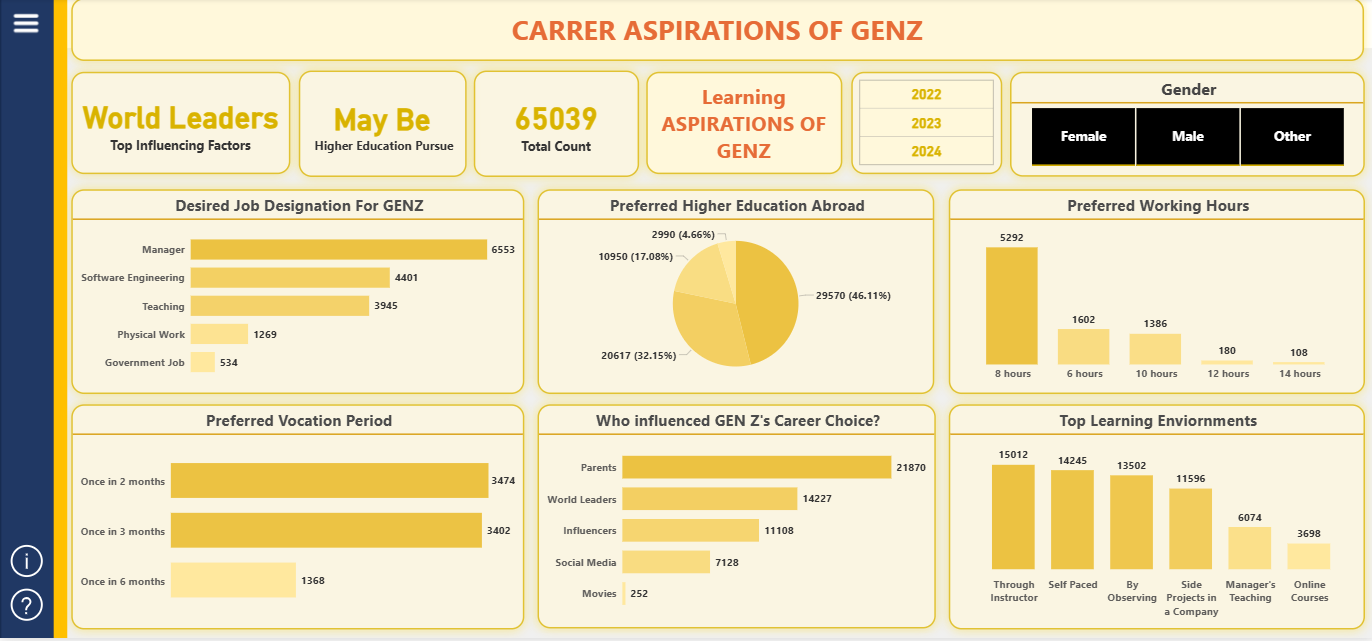

This screenshot's page, from the dashboard's own definition file:
{"tool":"powerbi","page":{"name":"Learning Aspirations","canvas":[2150,1000],"ordinal":2},"visuals":[{"type":"shape","title":"Man","box":[112,0,2020,98],"z":0},{"type":"actionButton","title":"Q/A","box":[10,916,68,64],"z":0,"group":"g1"},{"type":"barChart","title":"Preferred Vocation Period","fields":{"Category":["Career Aspirations.Frequency of Full Week Break"],"Y":["Dax Measures.Pin Code"]},"box":[112,634,708,352],"z":1000},{"type":"actionButton","title":"Info","box":[10,848.4,68,64],"z":1000,"group":"g1"},{"type":"actionButton","title":"Menu","box":[15.2,14,58.5,50.3],"z":2000,"group":"g1"},{"type":"card","title":"Minimum Salary Expectation at Starting","fields":{"Values":["Dax Measures.Top Influencing Factors"]},"box":[112,116,342,160],"z":2000},{"type":"columnChart","title":"Top Learning Enviornments","fields":{"Category":["Career Aspirations.Preferred Learning Environment"],"Y":["Dax Measures.Pin Code"]},"box":[1482,634,650,352],"z":3000},{"type":"clusteredBarChart","title":"Who influenced GEN Z''s Career Choice?","fields":{"Category":["Career Aspirations.Influencing Factors"],"Y":["Dax Measures.Pin Code"]},"box":[840,634,622,350],"z":4000},{"type":"clusteredBarChart","title":"Desired Job Designation For GENZ","fields":{"Y":["Dax Measures.Pin Code"],"Category":["Career Aspirations.Desired Job Designation"]},"box":[112,298,708,320],"z":5000},{"type":"group","id":"g1","title":"Menu Bar","box":[10,14,68,966],"z":7000},{"type":"pieChart","title":"Preferred Higher Education Abroad","fields":{"Category":["Career Aspirations.Higher Education Pursue"],"Y":["Dax Measures.Pin Code"]},"box":[840,298,620,320],"z":8000},{"type":"columnChart","title":"Preferred Working Hours","fields":{"Y":["Dax Measures.Pin Code"],"Category":["Career Aspirations.Preferred Daily Work Hours"]},"box":[1482,298,650,320],"z":9000},{"type":"card","title":"Minimum Salary Expectation at Starting","fields":{"Values":["Dax Measures.Total Count"]},"box":[740,114,258,166],"z":10000},{"type":"shape","title":"Man","box":[1010,116,306,160],"z":11000},{"type":"card","title":"Minimum Salary Expectation at Starting","fields":{"Values":["Min(Career Aspirations.Higher Education Pursue)"]},"box":[466,114,262,166],"z":12000},{"type":"slicer","title":"Gender","fields":{"Values":["Career Aspirations. Gender"]},"box":[1578,116,554,164],"z":13000},{"type":"advancedSlicerVisual","title":"Minimum Salary Expectation at Starting","fields":{"Values":["Career Aspirations.Date.Variation.Date Hierarchy.Year"]},"box":[1330,116,236,160],"z":14000}]}

Visuals, with their boxes on the page's 2150x1000 design canvas (x1, y1, x2, y2). These are canvas units, not pixel positions in the 1372x641 screenshot, which may show the page scaled, cropped or inside an application window:
"Man" shape: l=112, t=0, r=2132, b=98
"Q/A" actionButton: l=10, t=916, r=78, b=980
"Preferred Vocation Period" barChart: l=112, t=634, r=820, b=986
"Info" actionButton: l=10, t=848, r=78, b=912
"Menu" actionButton: l=15, t=14, r=74, b=64
"Minimum Salary Expectation at Starting" card: l=112, t=116, r=454, b=276
"Top Learning Enviornments" columnChart: l=1482, t=634, r=2132, b=986
"Who influenced GEN Z''s Career Choice?" clusteredBarChart: l=840, t=634, r=1462, b=984
"Desired Job Designation For GENZ" clusteredBarChart: l=112, t=298, r=820, b=618
"Menu Bar" group: l=10, t=14, r=78, b=980
"Preferred Higher Education Abroad" pieChart: l=840, t=298, r=1460, b=618
"Preferred Working Hours" columnChart: l=1482, t=298, r=2132, b=618
"Minimum Salary Expectation at Starting" card: l=740, t=114, r=998, b=280
"Man" shape: l=1010, t=116, r=1316, b=276
"Minimum Salary Expectation at Starting" card: l=466, t=114, r=728, b=280
"Gender" slicer: l=1578, t=116, r=2132, b=280
"Minimum Salary Expectation at Starting" advancedSlicerVisual: l=1330, t=116, r=1566, b=276
